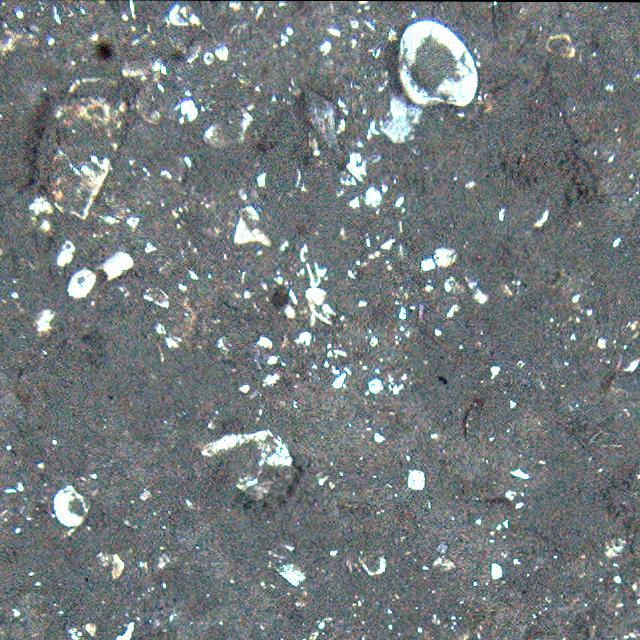whelk: (301, 82, 342, 149)
